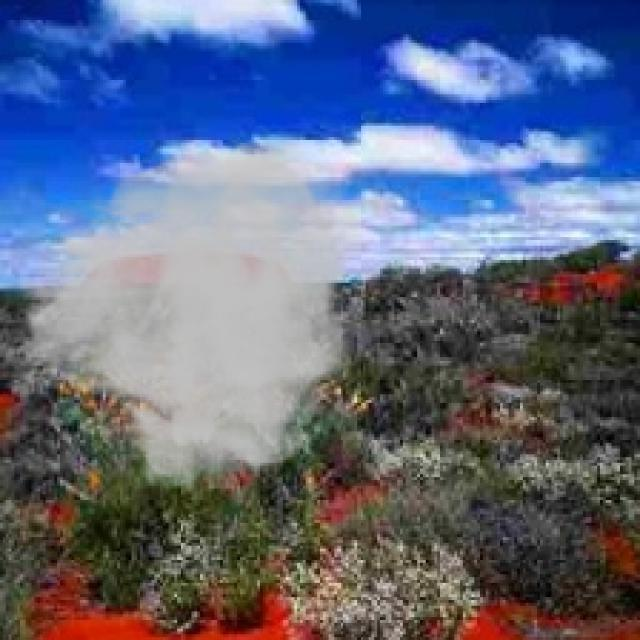Smoke: (2, 134, 368, 494)
